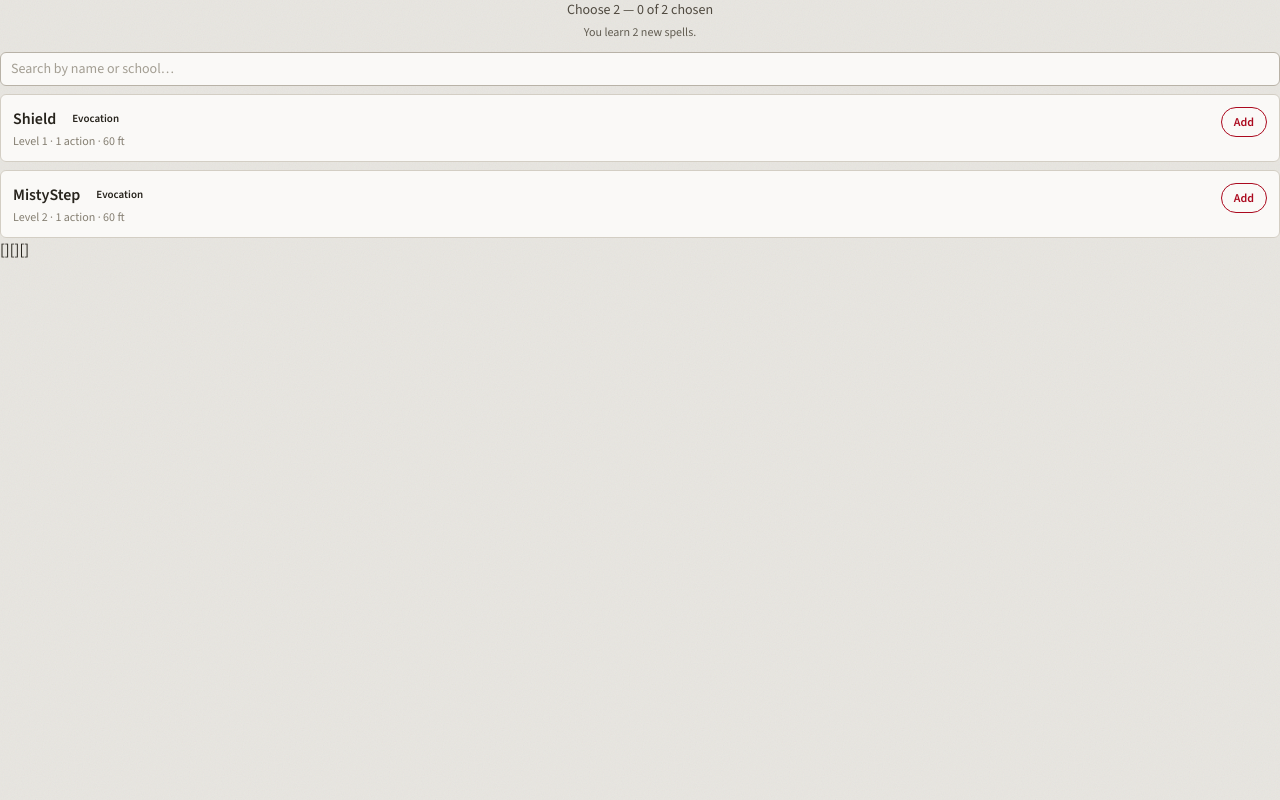
Test case: NewSpellsStep — cantrip picks (#1131) › opens the shared detail card with the full description on row tap; the CTA learns and closes it (#1158)
What coordinates should you click on to do the following:
click the button with aria-label "Open Shield"
I would click on:
 (35, 118)
Its box is top-left (13, 107), bottom-right (1209, 149).
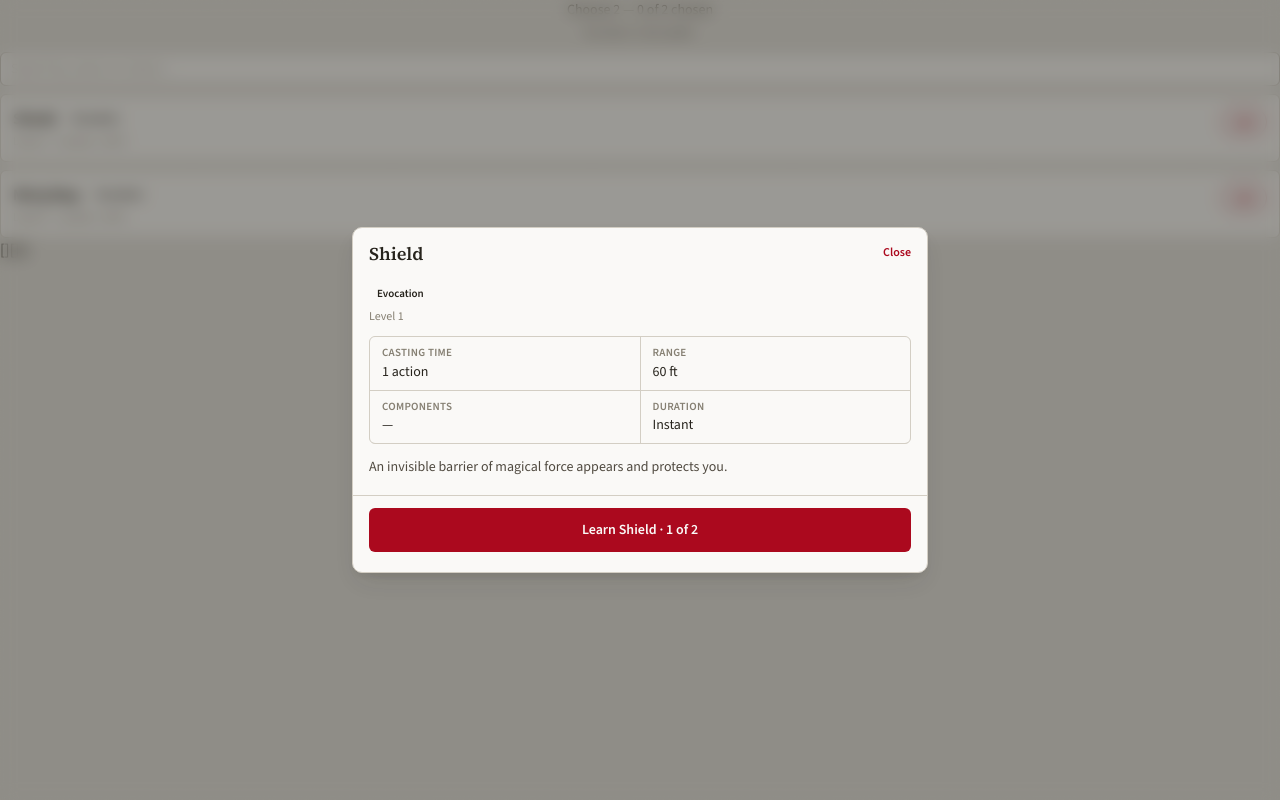
Check: the text "invisible barrier of magical force" is shown, box top-left (369, 457), bottom-right (727, 476)
What coordinates should you click on to do the following:
click the button "Learn Shield · 1 of 2"
I would click on:
 (640, 530)
Its box is top-left (369, 508), bottom-right (911, 552).
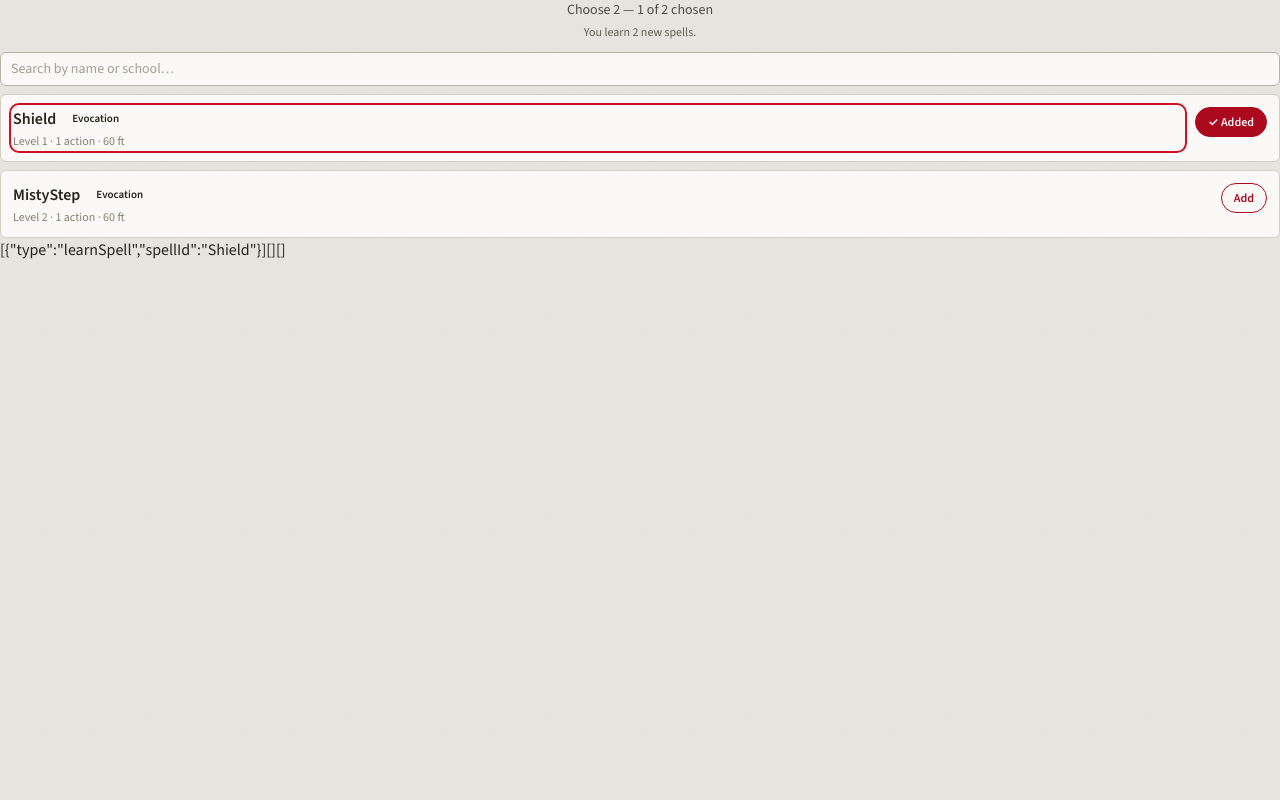
Check: the text "invisible barrier of magical force" is gone
